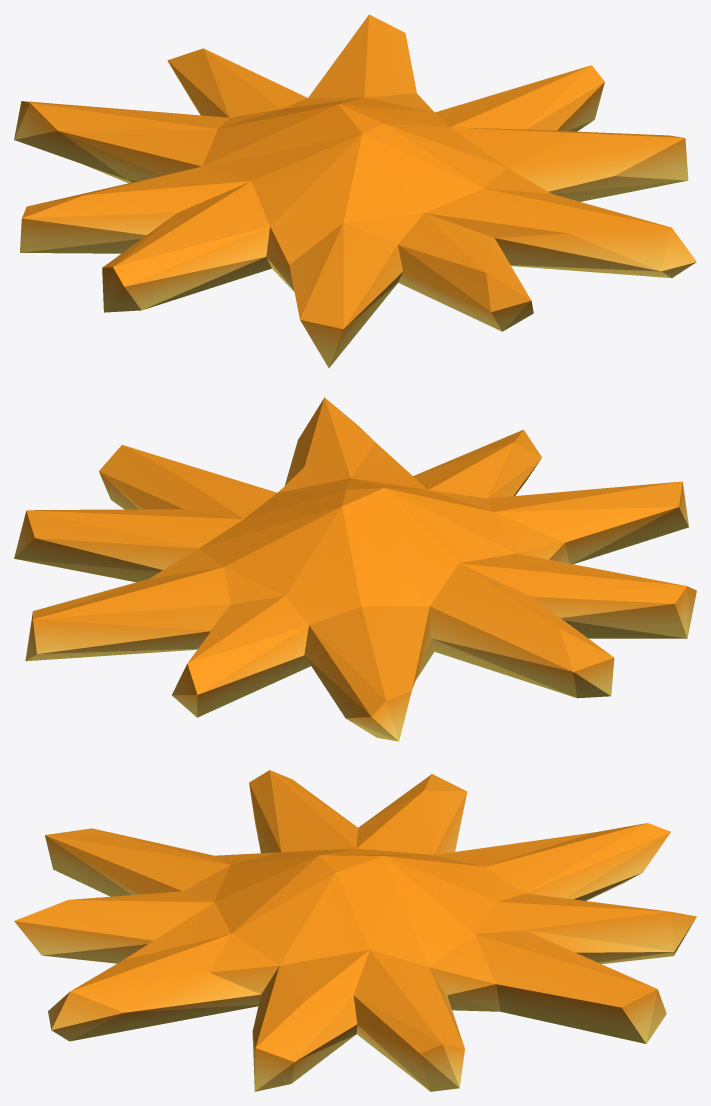
File: SM_Starfish_2.fbx
3 views of the same model, one above another, from view 1: azimuth 30°, elevation 25°; view 2: azimuth 150°, elevation 25°; view 3: azimuth 270°, elevation 25° (orthographic).
Visible parts, largest first — view 1: Starfish_2; view 2: Starfish_2; view 3: Starfish_2.
Boxes of the visible parts, left/top/right/bottom form: Starfish_2: left=14, top=14, right=696, bottom=367; Starfish_2: left=14, top=397, right=696, bottom=741; Starfish_2: left=14, top=770, right=696, bottom=1091.
Bounding box in the file's own units: 24.38 × 4.29 × 25.03.
